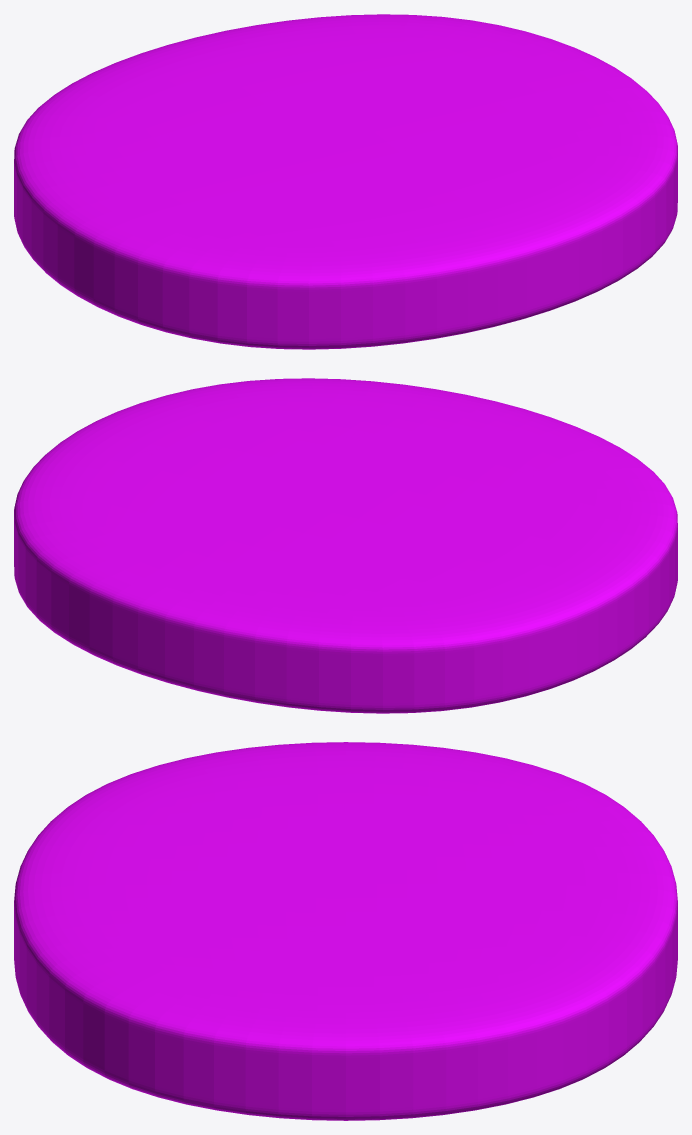
File: square-sausage.gltf
The picture shows the model from 3 angles, top to bottom: view 1: azimuth 30°, elevation 25°; view 2: azimuth 150°, elevation 25°; view 3: azimuth 270°, elevation 25°; orthographic projection. The views are drawn at different scales.
Parts seen in each view (by area): view 1: Cube.003; view 2: Cube.003; view 3: Cube.003.
Boxes of the visible parts, x1=… form: Cube.003: x1=14, y1=14, x2=677, y2=349; Cube.003: x1=14, y1=378, x2=677, y2=713; Cube.003: x1=14, y1=742, x2=677, y2=1120.
Size of the model in its own units: 2.12 by 0.3227 by 1.94.
